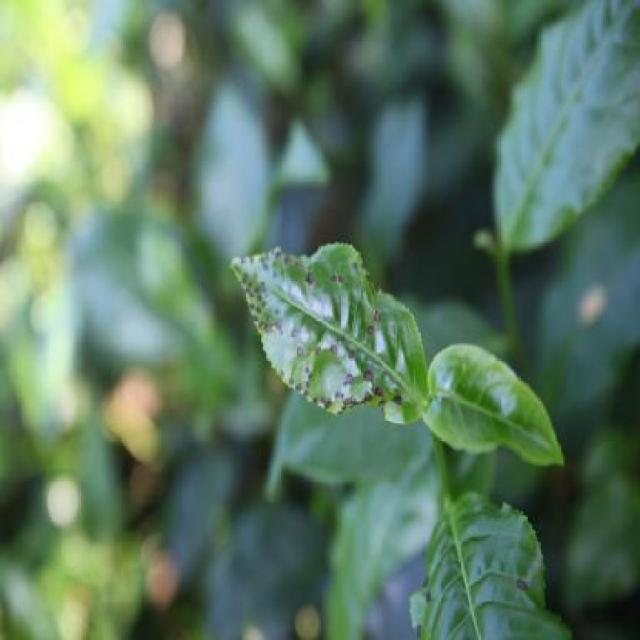Tea Mosquito bug infested leaf: (206, 190, 423, 396)
